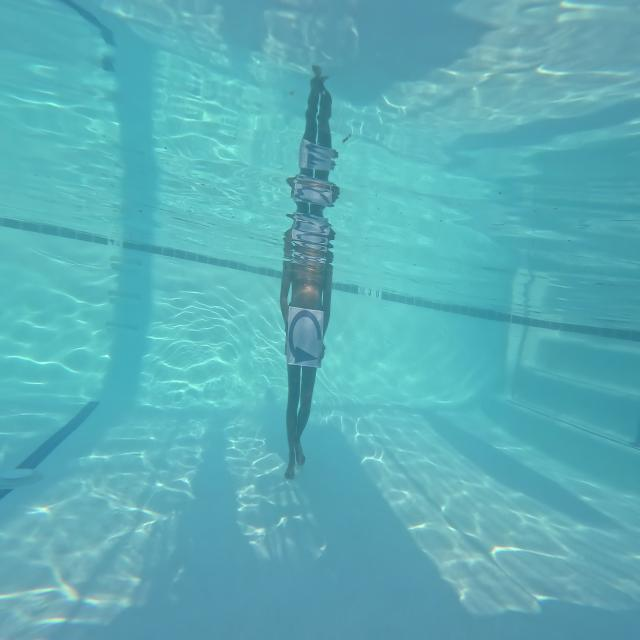blue_side: (282, 298, 330, 381)
